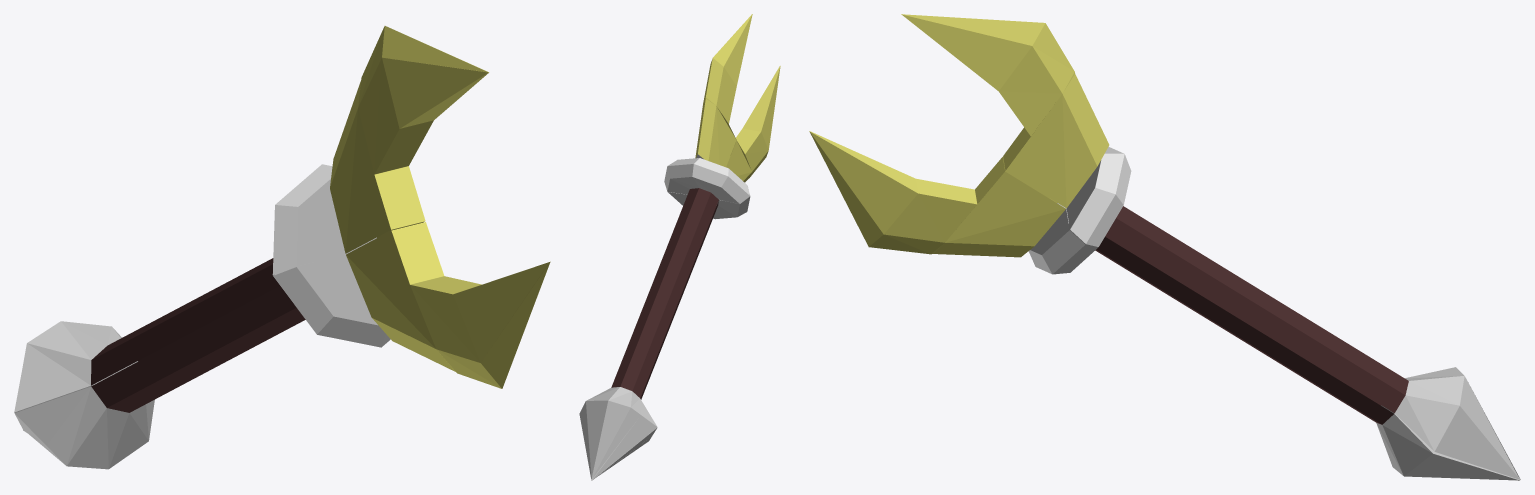
The model's file is wand.fbx.
3 renders of one model, left to right at view 1: azimuth 30°, elevation 25°; view 2: azimuth 150°, elevation 25°; view 3: azimuth 270°, elevation 25°, orthographic. The views are drawn at different scales.
Parts seen in each view (by area): view 1: wizWand; view 2: wizWand; view 3: wizWand.
Boxes of the visible parts, left/top/right/bottom form: wizWand: left=14, top=26, right=550, bottom=469; wizWand: left=579, top=14, right=780, bottom=480; wizWand: left=809, top=14, right=1520, bottom=480.
Size of the model in its own units: 1.17 by 3.48 by 4.55.
